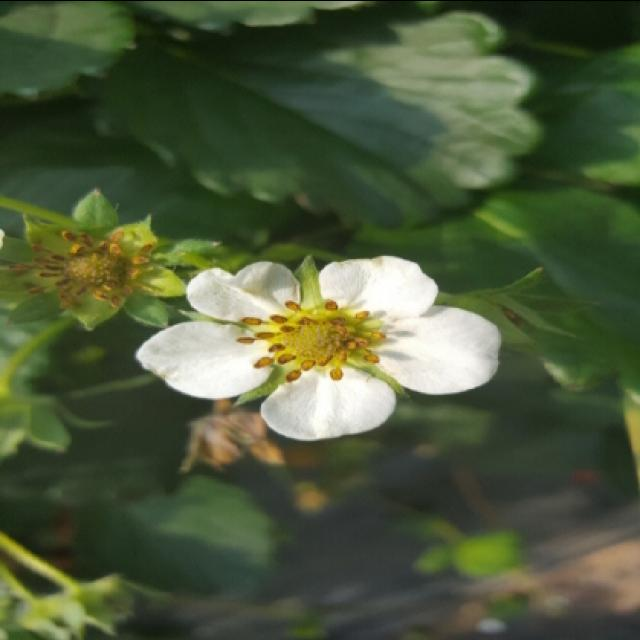Blossom Blight: (233, 292, 391, 388), (0, 219, 160, 311)
